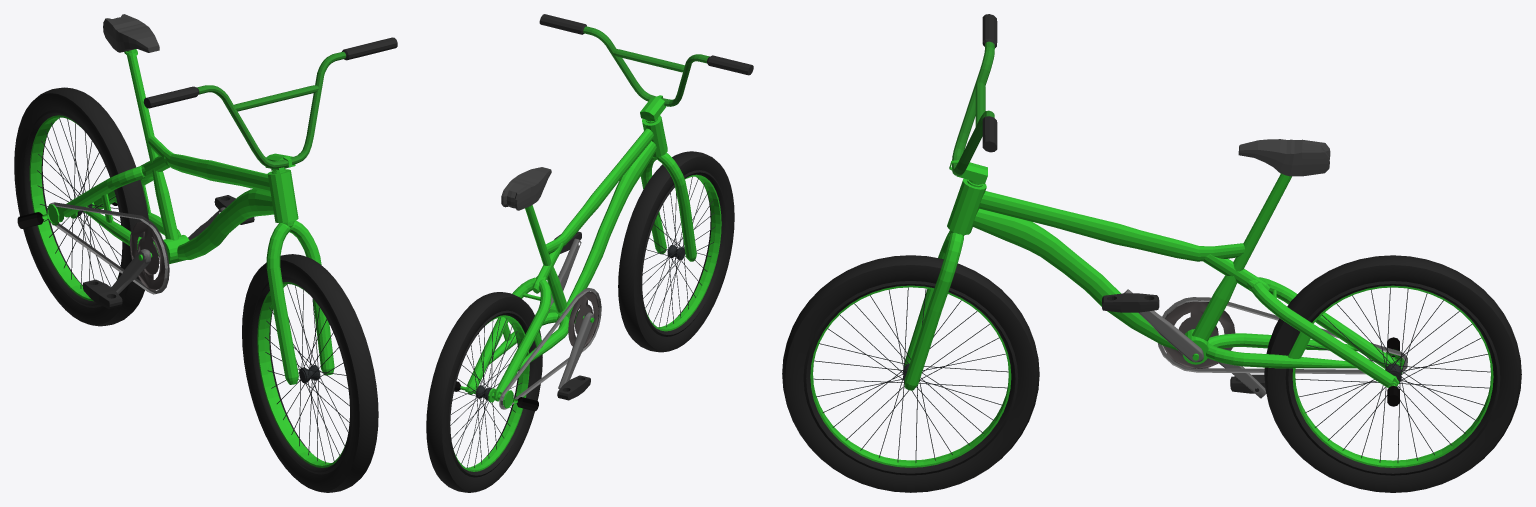
The model's file is basikal_bmx_hijau.glb.
The picture shows the model from 3 angles, left to right: view 1: azimuth 30°, elevation 25°; view 2: azimuth 150°, elevation 25°; view 3: azimuth 270°, elevation 25°; orthographic projection. The views are drawn at different scales.
Parts seen in each view (by area): view 1: basikal_bmx_hijau, basikal_bmx_hijau_crank; view 2: basikal_bmx_hijau, basikal_bmx_hijau_crank; view 3: basikal_bmx_hijau, basikal_bmx_hijau_crank.
Part boxes in pixels (box(x1,y1,x2,y2)): basikal_bmx_hijau: box(14, 14, 397, 492); basikal_bmx_hijau_crank: box(111, 207, 225, 294); basikal_bmx_hijau: box(426, 14, 753, 492); basikal_bmx_hijau_crank: box(548, 238, 599, 389); basikal_bmx_hijau: box(782, 14, 1521, 492); basikal_bmx_hijau_crank: box(1124, 289, 1266, 398).
Size of the model in its own units: 0.6472 by 0.9743 by 1.58.
